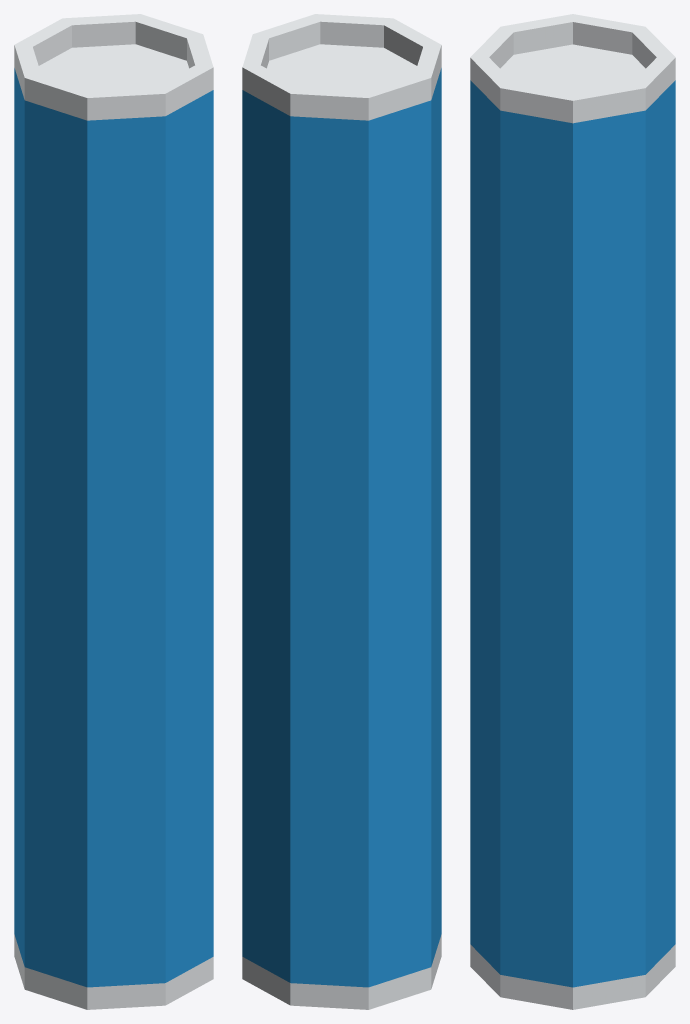
Rendered from Koker.fbx.
3 views of the same model, side by side, from view 1: azimuth 30°, elevation 25°; view 2: azimuth 150°, elevation 25°; view 3: azimuth 270°, elevation 25° (orthographic).
Visible parts, largest first — view 1: Koker; view 2: Koker; view 3: Koker.
Part boxes in pixels (x1,y1,x2,y2): Koker: (14, 14, 213, 1009); Koker: (242, 14, 441, 1009); Koker: (470, 14, 675, 1009).
Bounding box in the file's own units: 166 × 811 × 166.
